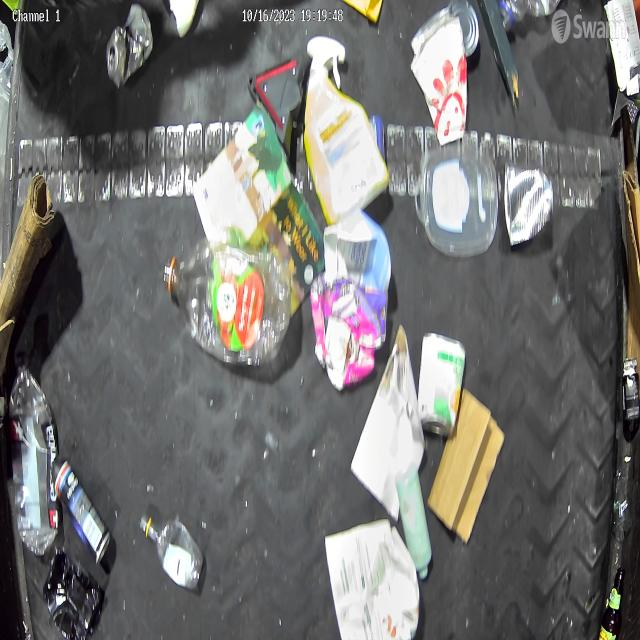can: (54, 451, 113, 563), (417, 332, 467, 439), (504, 161, 554, 251), (105, 0, 154, 89), (448, 0, 481, 60)
non_white_jug: (305, 34, 391, 229)
plastic_bottle: (160, 236, 294, 366), (8, 342, 61, 563), (138, 510, 204, 595), (499, 0, 561, 34)
